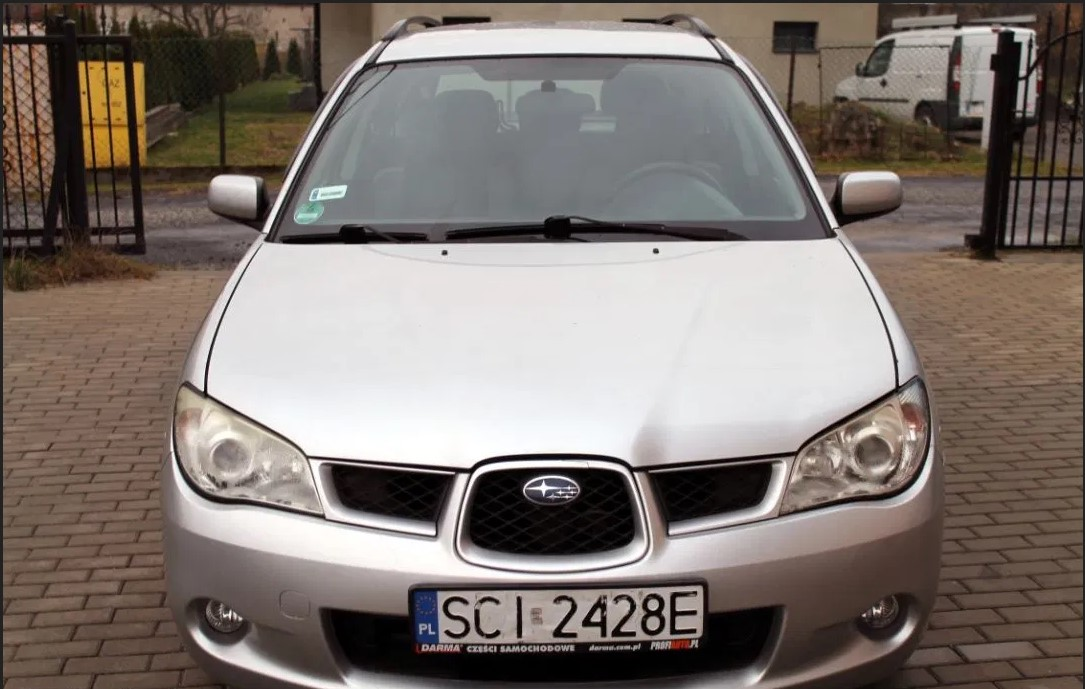number_plate: (390, 568, 720, 665)
